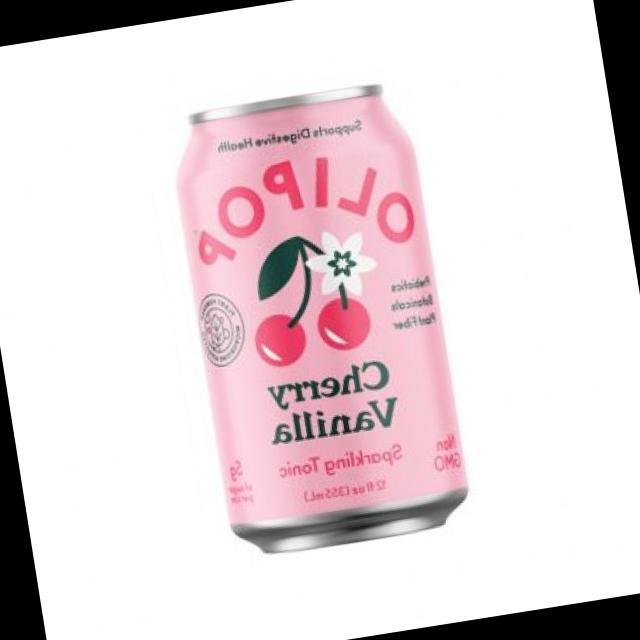Kaleng: (163, 76, 478, 562)
